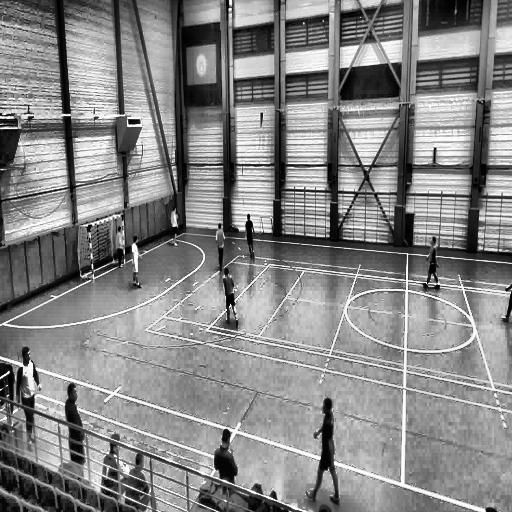player: (304, 396, 342, 504), (16, 347, 41, 444), (65, 382, 85, 476), (214, 428, 238, 496), (423, 237, 440, 289), (224, 265, 238, 326), (501, 258, 512, 324), (131, 234, 142, 288), (216, 224, 226, 273), (245, 213, 255, 259), (116, 226, 124, 268), (172, 207, 180, 247)
